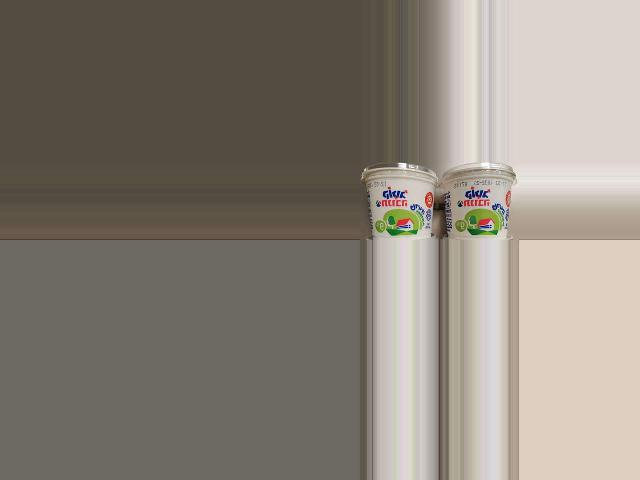cotage: (367, 164, 439, 240)
